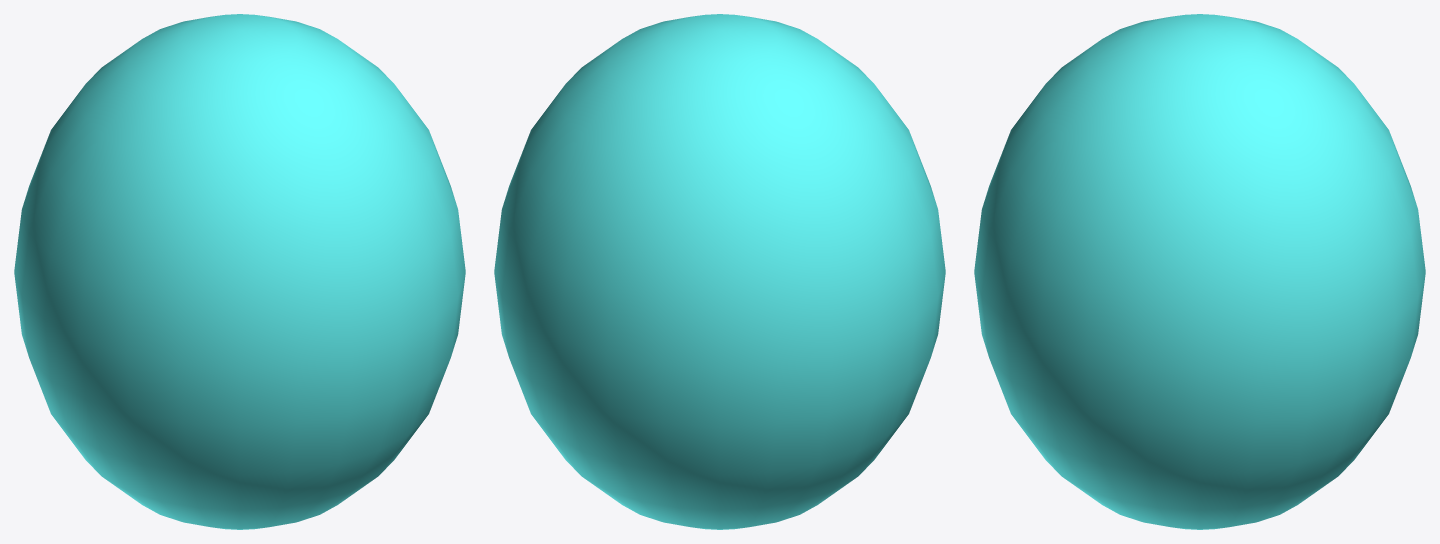
File: balloon 1.dae
3 renders of one model, left to right at view 1: azimuth 30°, elevation 25°; view 2: azimuth 150°, elevation 25°; view 3: azimuth 270°, elevation 25°, orthographic.
Parts seen in each view (by area): view 1: dssd; view 2: dssd; view 3: dssd.
Part boxes in pixels (x1,y1,x2,y2): dssd: (14,14,465,529); dssd: (494,14,945,529); dssd: (974,14,1425,529).
Bounding box in the file's own units: 36.22 × 36.22 × 42.74.
